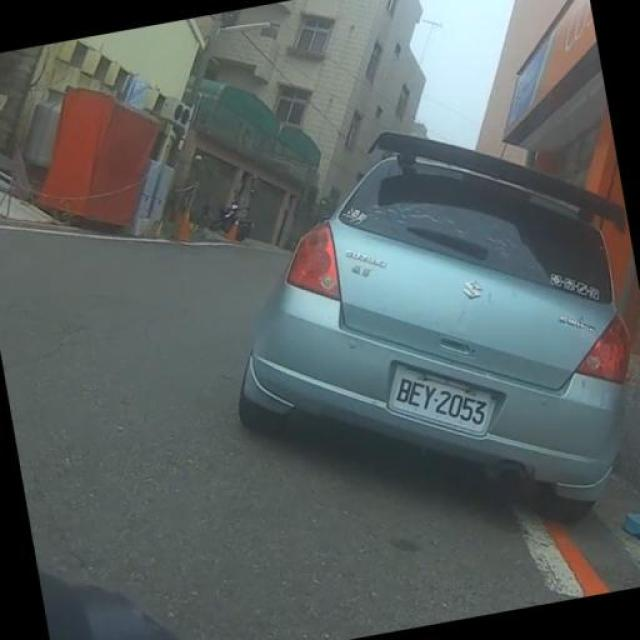illegalparking: (245, 134, 628, 520)
